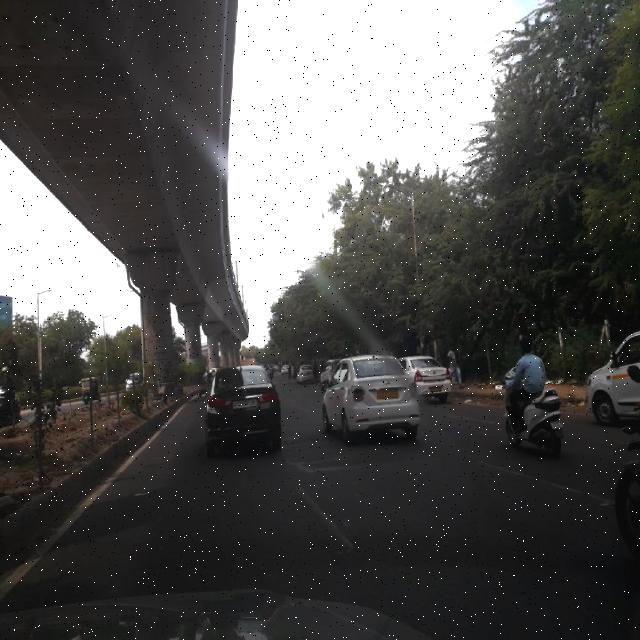D44: (474, 461, 608, 507), (288, 482, 358, 553)
